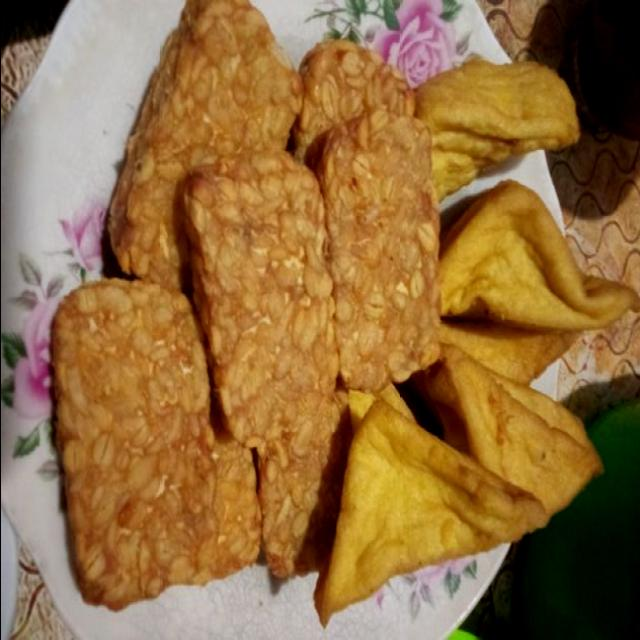tahu goreng: (314, 385, 546, 624), (393, 344, 603, 517), (435, 176, 637, 340), (410, 57, 579, 200)
tempe goreng: (53, 287, 210, 606), (186, 131, 322, 453), (312, 98, 438, 404)
